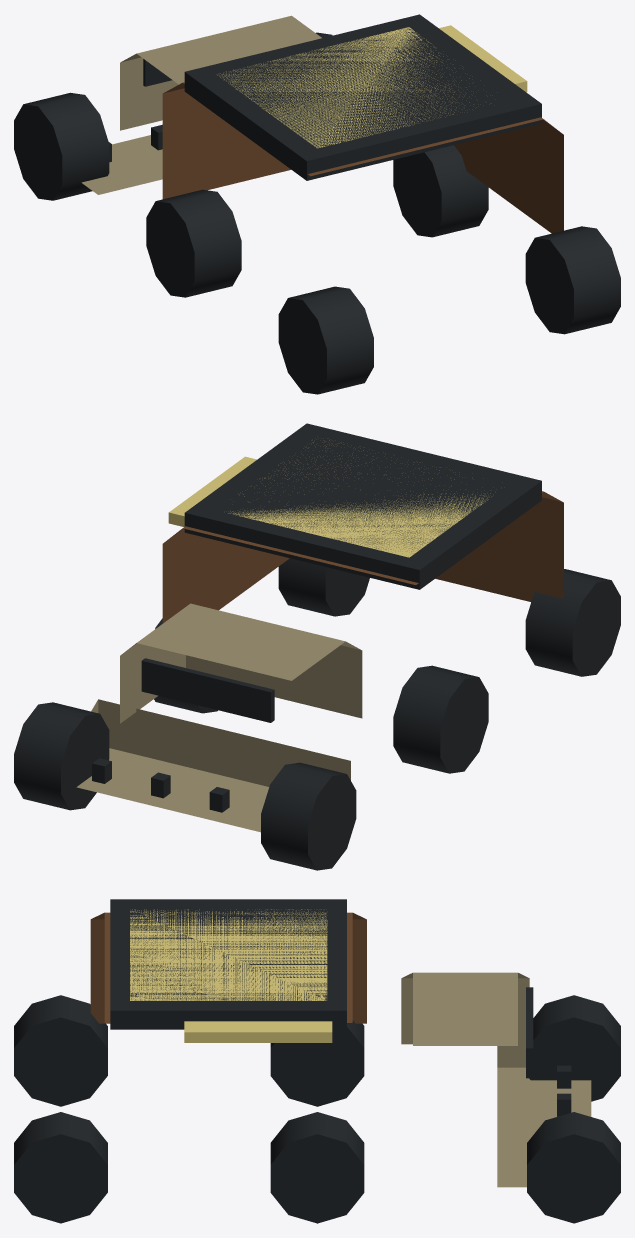
File: harvester.glb
The picture shows the model from 3 angles, top to bottom: view 1: azimuth 30°, elevation 25°; view 2: azimuth 150°, elevation 25°; view 3: azimuth 270°, elevation 25°; orthographic projection. The views are drawn at different scales.
Parts seen in each view (by area): view 1: Body; view 2: Body; view 3: Body.
Part boxes in pixels (x1,y1,x2,y2): Body: [14, 14, 620, 394]; Body: [14, 423, 620, 870]; Body: [14, 899, 620, 1223].
Size of the model in its own units: 2.8 by 1.87 by 5.17.
